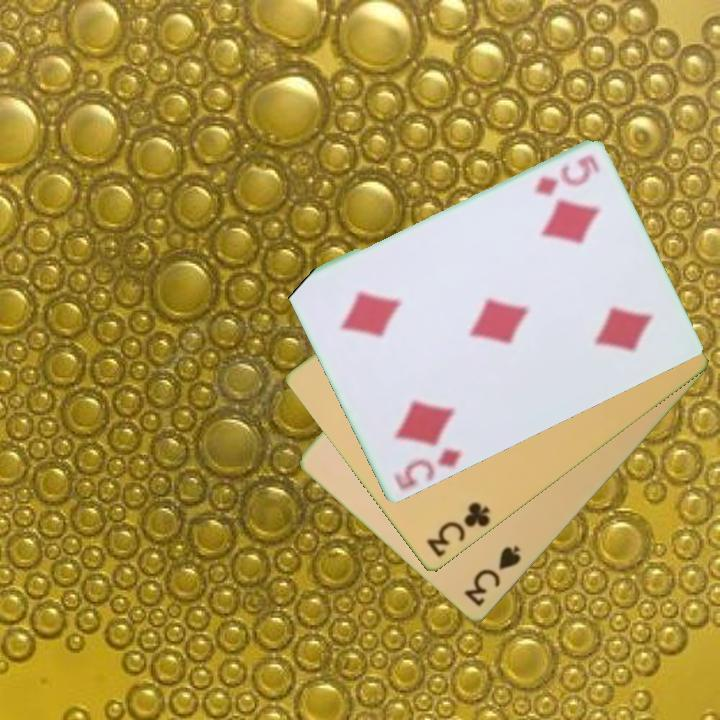3c: (422, 498, 493, 561)
3s: (460, 542, 524, 611)
5d: (394, 444, 465, 494), (531, 151, 601, 198)
